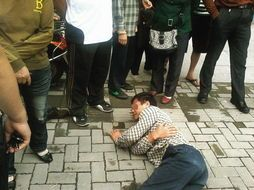fall: (98, 80, 212, 190)
